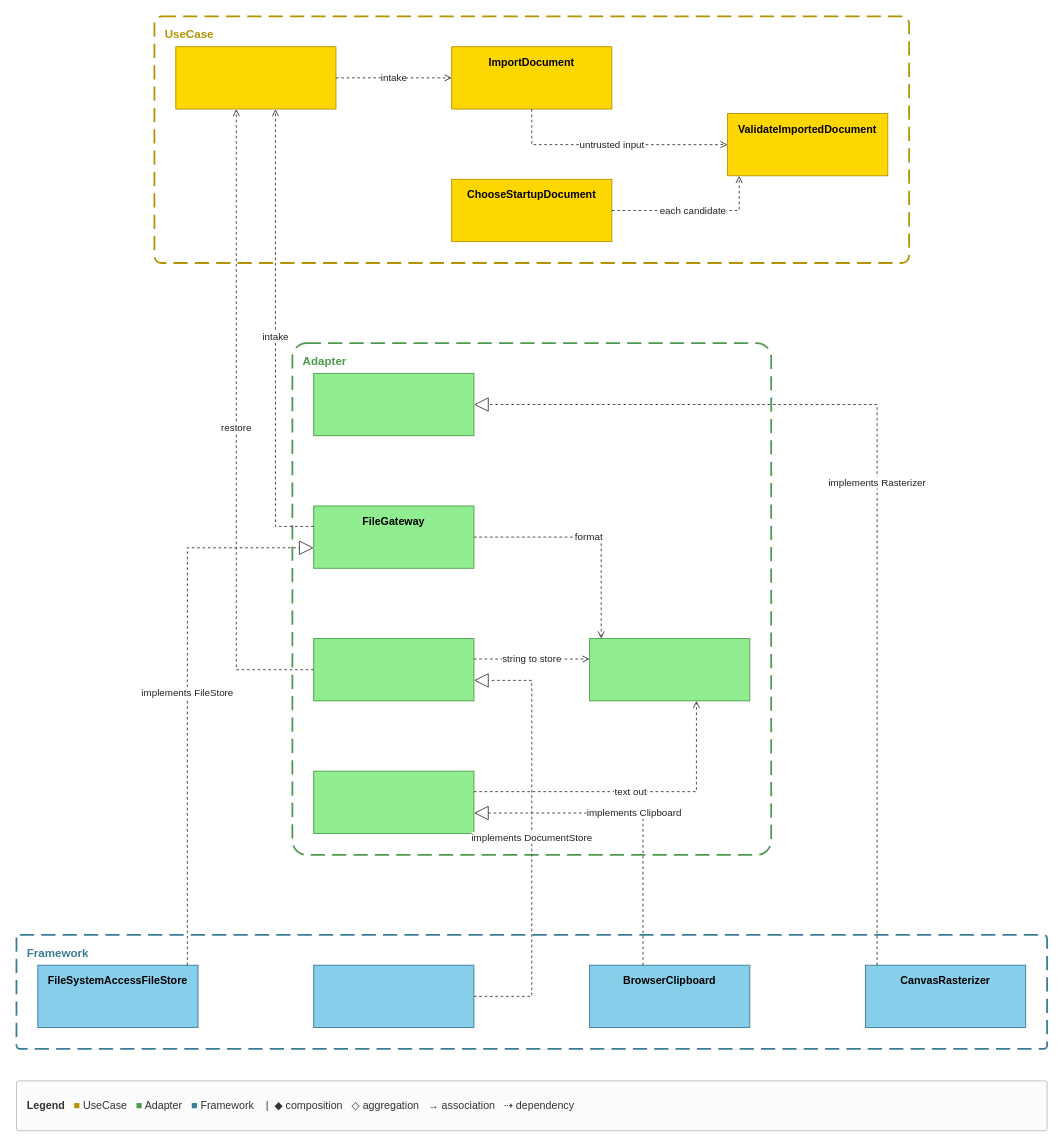
The diagram is 1063 pixels wide and 1146 high, and some of its shapes have lost their labels. Each missing label, with the centre of its shape:
"ApplyDocumentChange" goes at point (255, 77).
"AutosaveGateway" goes at point (393, 669).
"ClipboardGateway" goes at point (393, 801).
"DocumentCodec" goes at point (669, 669).
"ImageExporter" goes at point (393, 404).
"LocalStorageDocumentStore" goes at point (393, 996).
